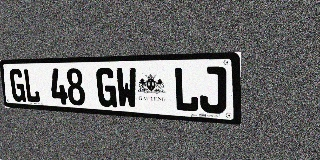4: (49, 68, 68, 105)
8: (66, 68, 85, 106)
G: (96, 68, 117, 108), (9, 69, 26, 102)
J: (199, 66, 226, 114)
L: (173, 67, 199, 112), (23, 69, 41, 103)
W: (115, 67, 138, 109)
